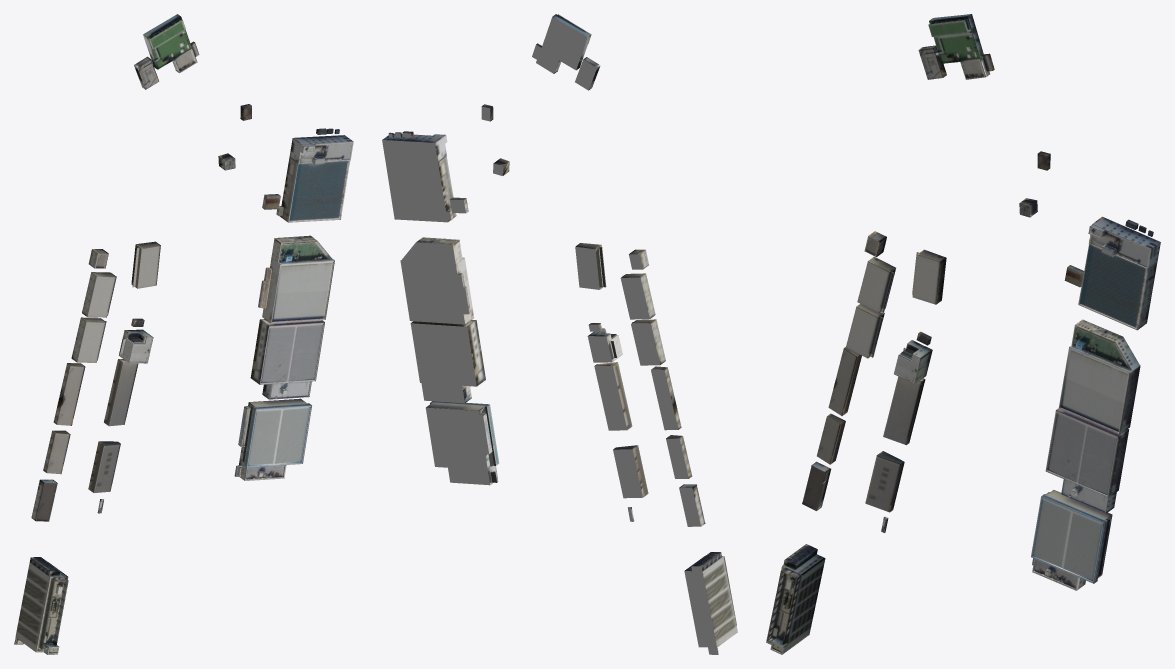
The model's file is 53392670_bldg_6677.obj.
3 renders of one model, left to right at view 1: azimuth 30°, elevation 25°; view 2: azimuth 150°, elevation 25°; view 3: azimuth 330°, elevation 25°, orthographic. The views are drawn at different scales.
Size of the model in its own units: 184 by 314 by 27.29.
Materials: 26 (26 with a texture image).
